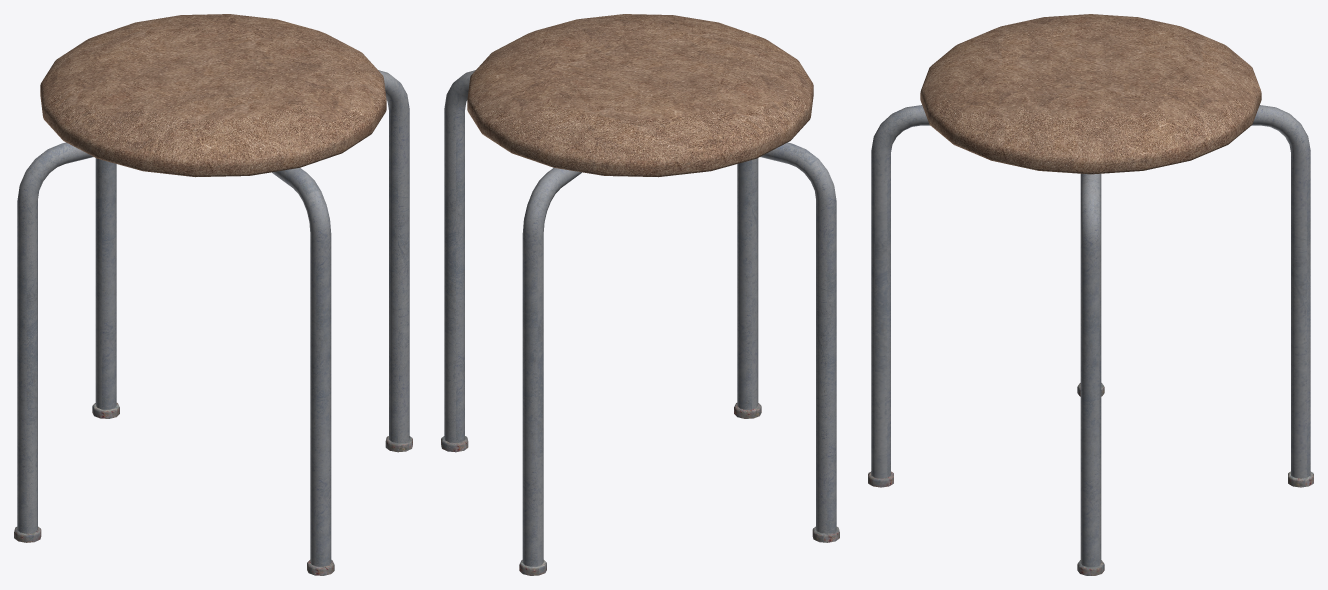
File: Circle_Chair.FBX
3 renders of one model, left to right at view 1: azimuth 30°, elevation 25°; view 2: azimuth 150°, elevation 25°; view 3: azimuth 270°, elevation 25°, orthographic. The views are drawn at different scales.
Visible parts, largest first — view 1: Chair; view 2: Chair; view 3: Chair.
Boxes of the visible parts, box(x1,y1,x2,y2) form: Chair: box(14, 14, 412, 575); Chair: box(441, 14, 839, 575); Chair: box(868, 14, 1313, 575).
Bounding box in the file's own units: 131 × 135 × 131.
